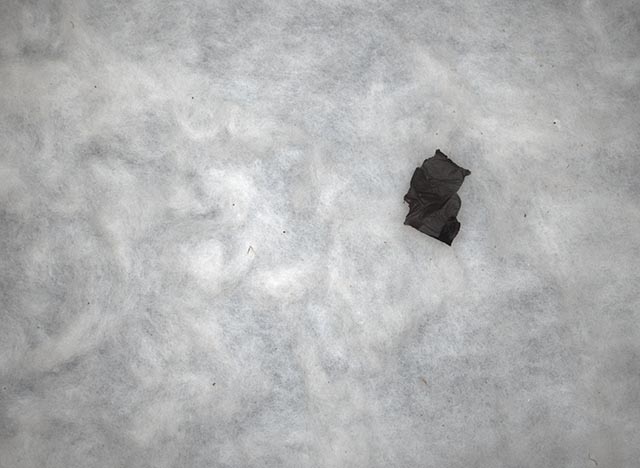plastic film: (403, 147, 472, 247)
